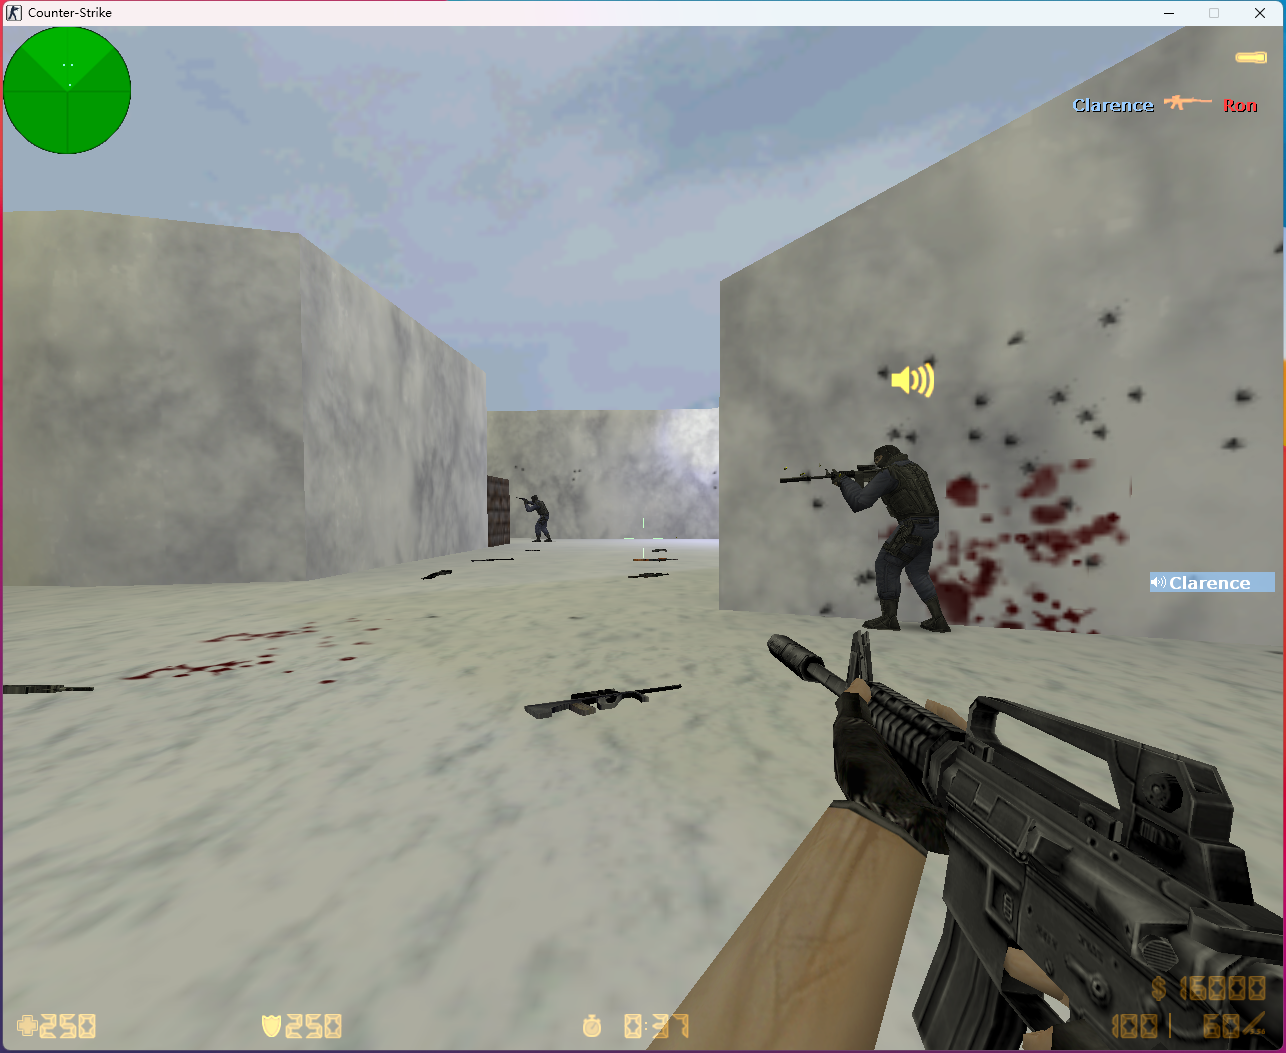C: (778, 445, 968, 641), (520, 492, 553, 547)
weapon: (526, 673, 686, 721), (418, 562, 452, 582), (471, 555, 514, 567), (621, 571, 674, 579), (626, 555, 677, 563)
